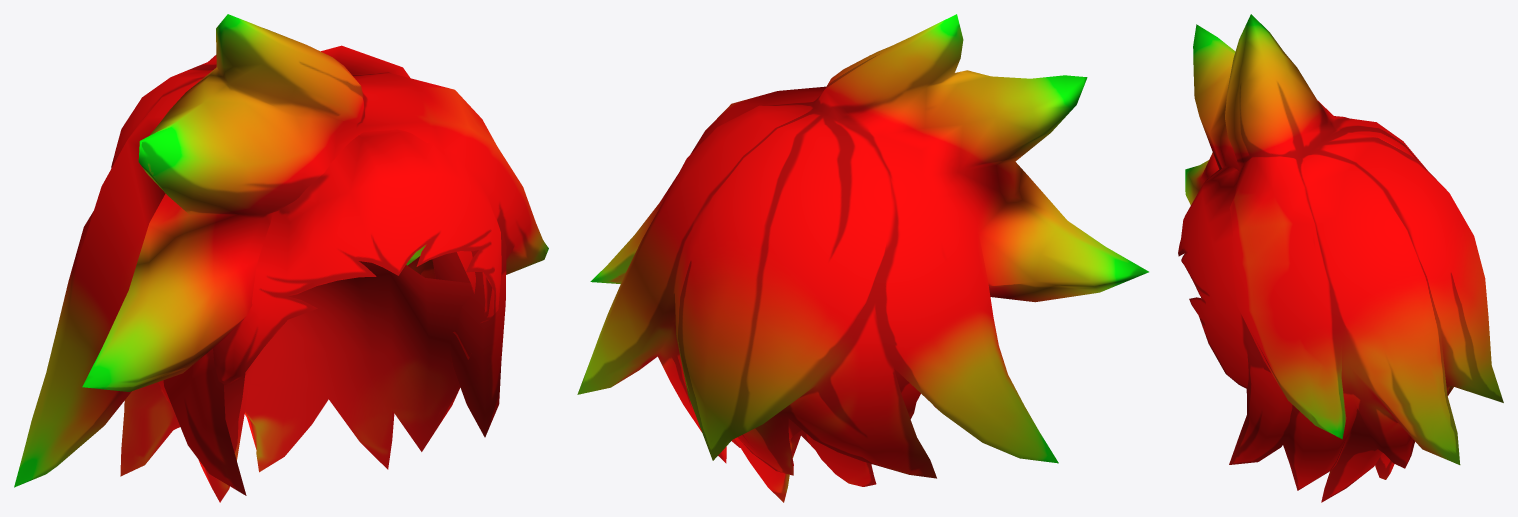
File: HairBack_WildLocks.fbx
3 views of the same model, side by side, from view 1: azimuth 30°, elevation 25°; view 2: azimuth 150°, elevation 25°; view 3: azimuth 270°, elevation 25° (orthographic). The views are drawn at different scales.
Parts seen in each view (by area): view 1: HairBack_WildLocks; view 2: HairBack_WildLocks; view 3: HairBack_WildLocks.
Boxes of the visible parts, x1,y1,x2,y2 form: HairBack_WildLocks: [14, 14, 548, 502]; HairBack_WildLocks: [577, 14, 1148, 502]; HairBack_WildLocks: [1178, 14, 1503, 502].
Size of the model in its own units: 39.62 by 36.71 by 25.72.
Materials: 1 (1 with a texture image).
